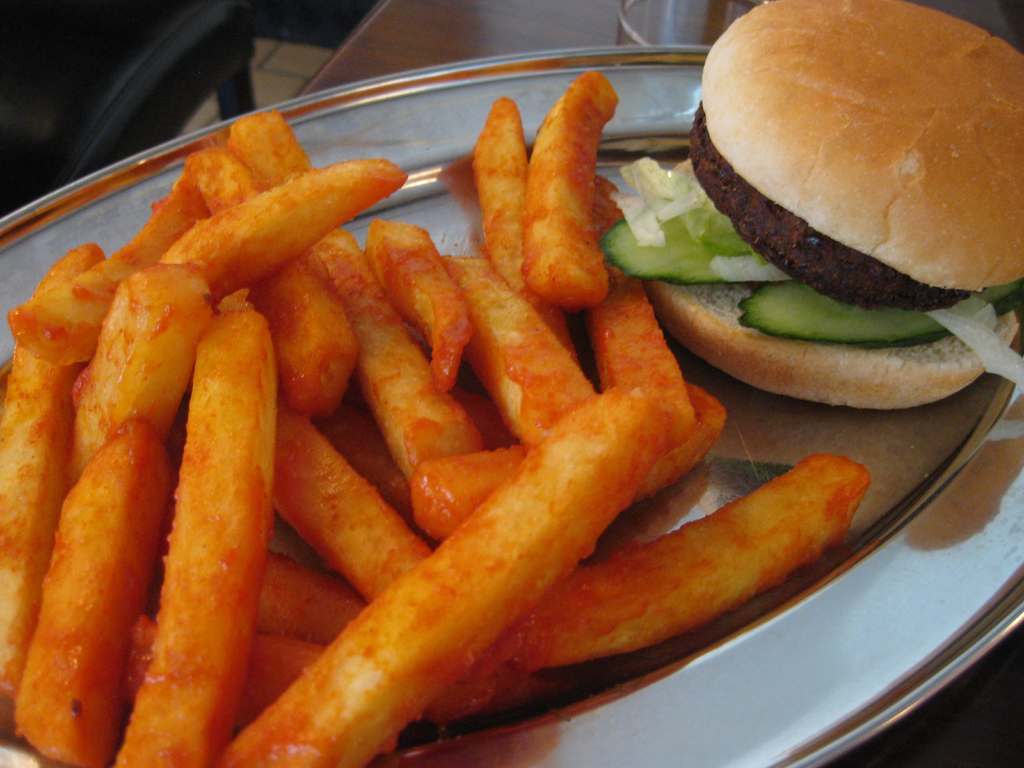French fries: (7, 119, 877, 761)
